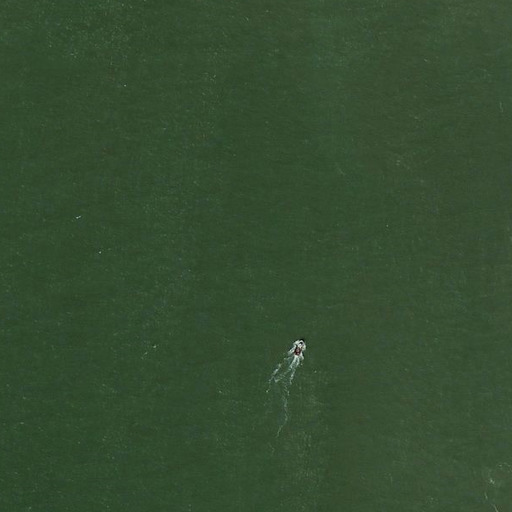ship: (292, 340, 306, 357)
